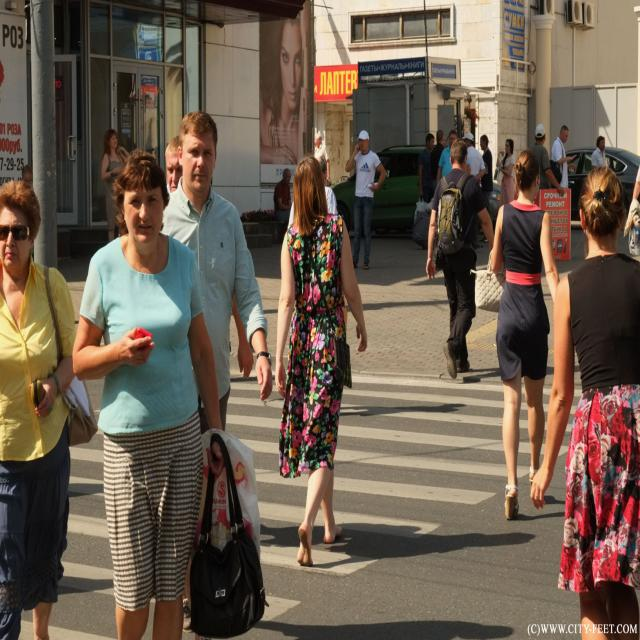No Safety Boots: (297, 523, 313, 566), (323, 524, 342, 544)
